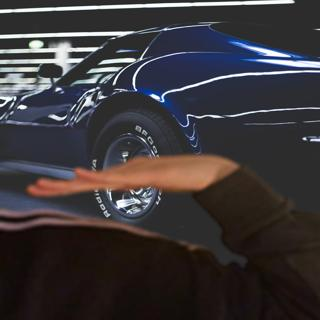Wait: (24, 145, 236, 204)
